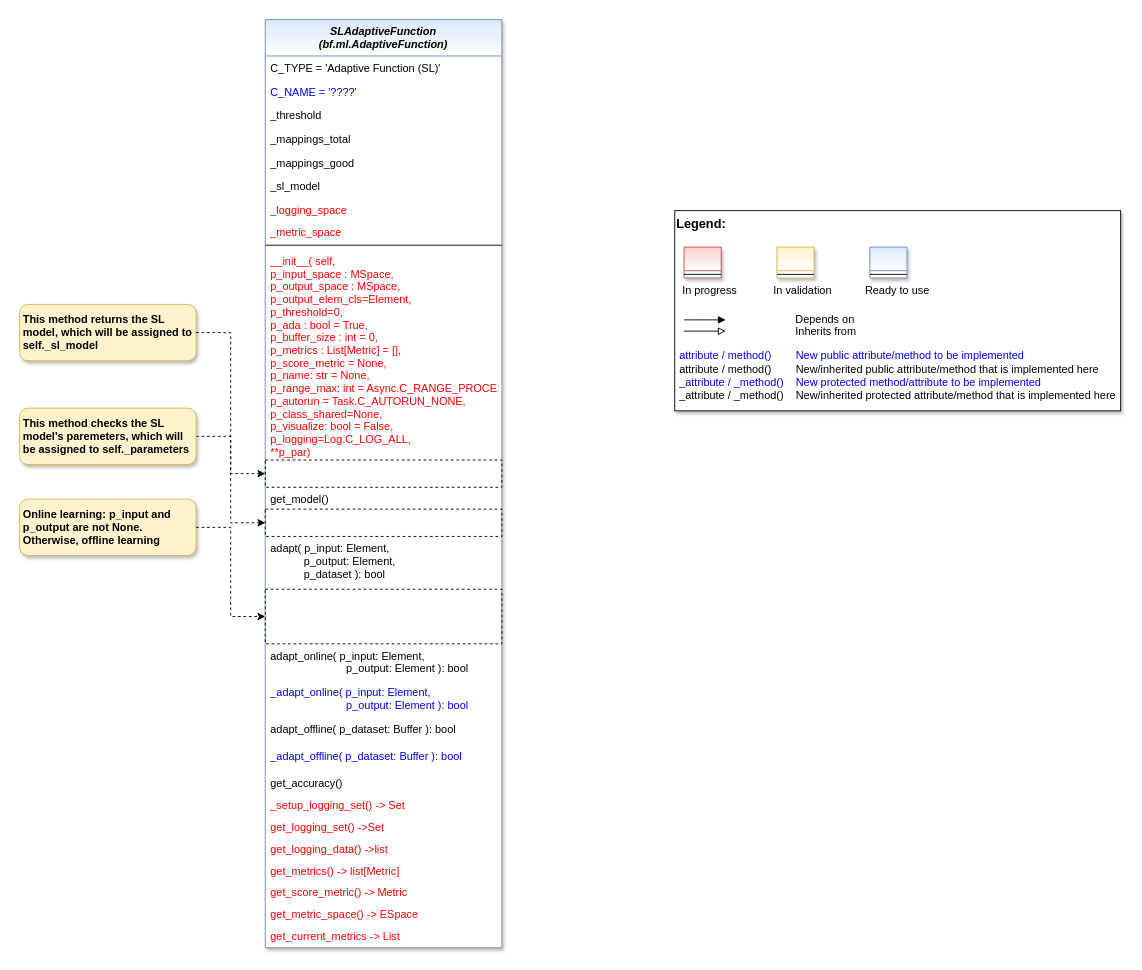
The diagram is 1142 pixels wide and 970 high, and some of its shapes have lost their labels. The shapes that lost their labels are listed below. From the top down, each one's centre as x and y in pixels, then its label:
At (x=383, y=473): "_setup_model()".
At (x=383, y=522): "_hyperparameters_check(): dict".
At (x=383, y=616): "_adapt( p_input: Element, p_output: Element, p_dataset: Buffer ): bool".
